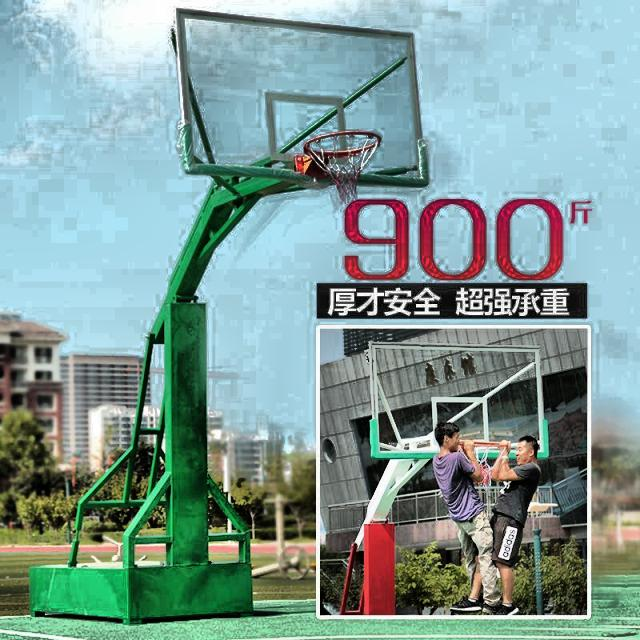rim: (304, 131, 382, 200)
